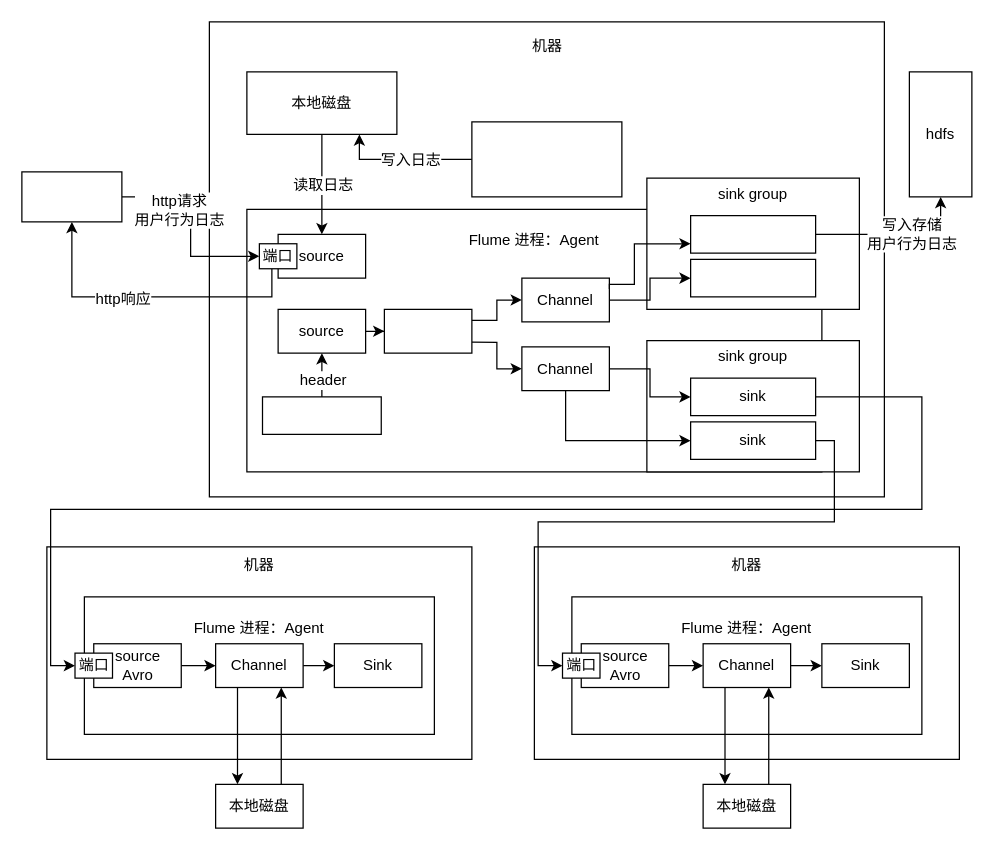
Some shapes in this 994 by 850 pixel diagram are drawn without their labels. Each missing label, with the centre of its shape:
"Interceptor" goes at pixel 321 415.
"Nginx" goes at pixel 71 196.
"Selector" goes at pixel 427 330.
"sink 10" goes at pixel 752 233.
"sink 5" goes at pixel 752 277.
"Tomcat Server" goes at pixel 546 159.
